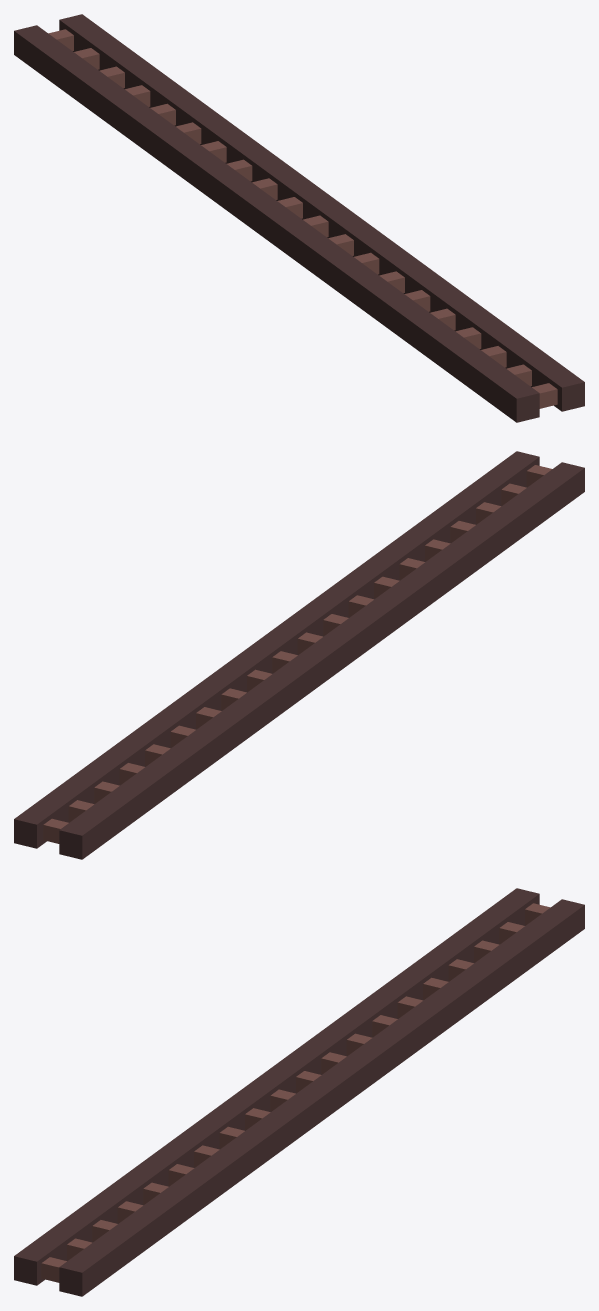
Rendered from DarkRoseWoodMechMediumGearSystemLadder1.fbx.
3 renders of one model, top to bottom at view 1: azimuth 30°, elevation 25°; view 2: azimuth 150°, elevation 25°; view 3: azimuth 330°, elevation 25°, orthographic.
Visible parts, largest first — view 1: DarkRoseWoodMechMediumGearSystemLadder1; view 2: DarkRoseWoodMechMediumGearSystemLadder1; view 3: DarkRoseWoodMechMediumGearSystemLadder1.
Part boxes in pixels (x1,y1,x2,y2): DarkRoseWoodMechMediumGearSystemLadder1: [14, 14, 584, 422]; DarkRoseWoodMechMediumGearSystemLadder1: [14, 451, 584, 859]; DarkRoseWoodMechMediumGearSystemLadder1: [14, 888, 584, 1296].
Bounding box in the file's own units: 85.47 × 28.77 × 1091.
